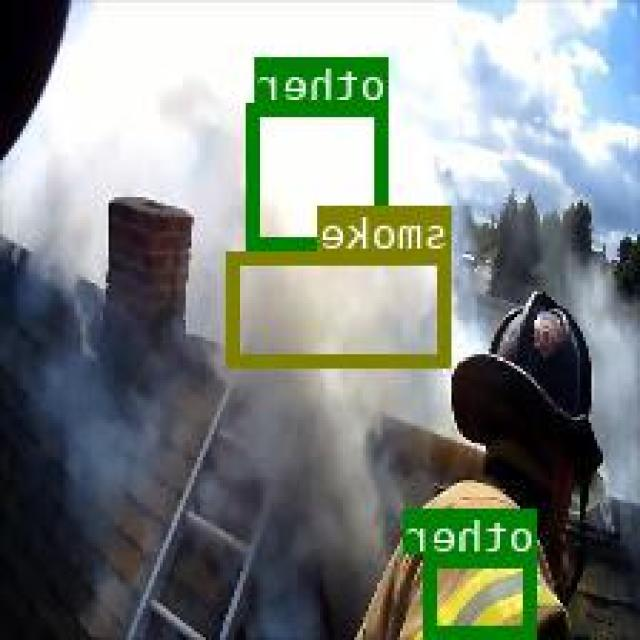other: (250, 100, 390, 247), (429, 552, 540, 634)
smoke: (229, 250, 454, 364)
